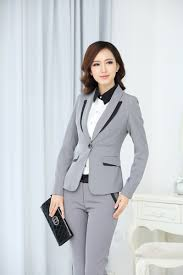F_W_suit jacket: (54, 85, 149, 196)
